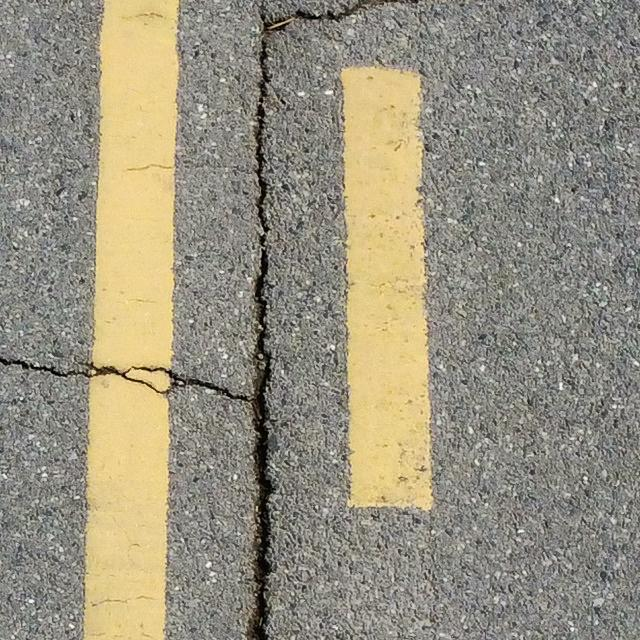LongitudinalCrack: (244, 1, 274, 637)
TransverseCrack: (1, 356, 253, 402), (266, 1, 378, 31)
